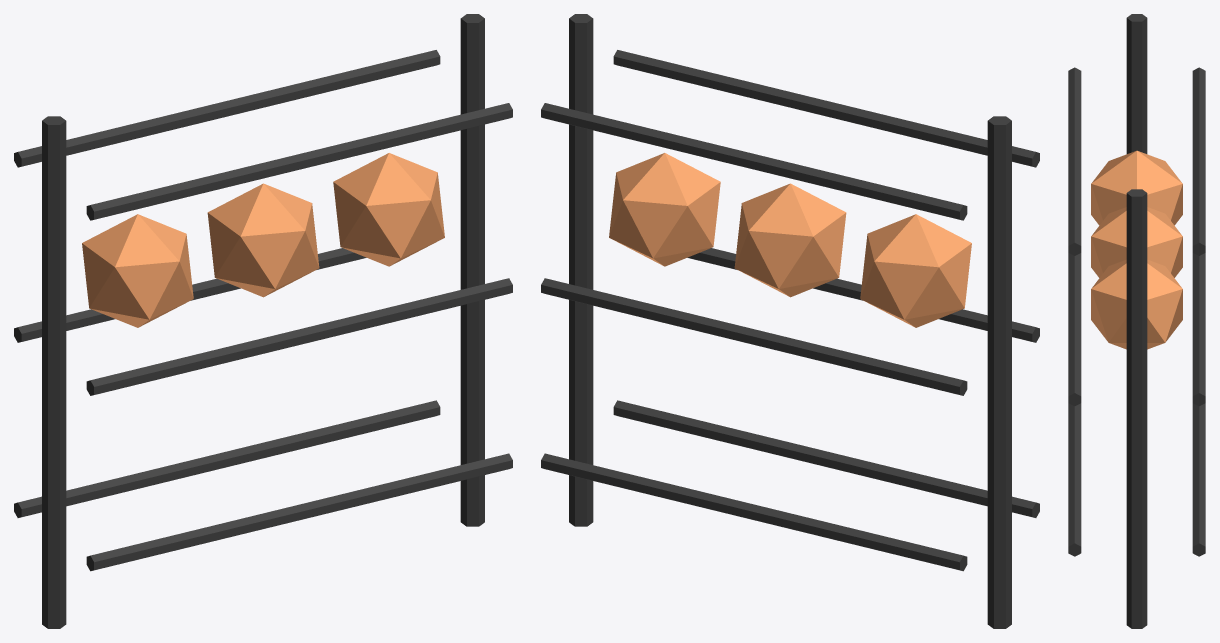
3 renders of one model, left to right at view 1: azimuth 30°, elevation 25°; view 2: azimuth 150°, elevation 25°; view 3: azimuth 270°, elevation 25°, orthographic. The views are drawn at different scales.
Visible parts, largest first — view 1: Frame, Frame.001, Ball, Ball.001, Ball.002, Rail.004, Rail, Rail.002, Rail.001, Rail.005, Rail.003; view 2: Frame, Frame.001, Ball, Ball.001, Ball.002, Rail.005, Rail.001, Rail.003, Rail, Rail.004, Rail.002; view 3: Frame.001, Ball.002, Ball, Ball.001, Frame, Rail.004, Rail.005, Rail, Rail.001, Rail.002, Rail.003.
Boxes of the visible parts, x1,y1,x2,y2 form: Frame: (42,116,66,628); Frame.001: (460,14,484,526); Ball: (82,214,193,327); Ball.001: (207,183,319,297); Ball.002: (333,153,444,266); Rail.004: (86,103,512,220); Rail: (86,453,512,571); Rail.002: (86,278,512,395); Rail.001: (14,400,440,517); Rail.005: (14,50,440,167); Rail.003: (14,248,366,342); Frame: (987,116,1011,628); Frame.001: (569,14,593,526); Ball: (860,214,971,327); Ball.001: (734,183,846,297); Ball.002: (609,153,720,266); Rail.005: (541,103,967,220); Rail.001: (541,453,967,571); Rail.003: (541,278,967,395); Rail: (613,400,1039,517); Rail.004: (613,50,1039,167); Rail.002: (687,248,1039,342); Frame.001: (1126,189,1147,628); Ball.002: (1091,259,1182,349); Ball: (1091,150,1182,225); Ball.001: (1091,207,1182,277); Frame: (1126,14,1147,153); Rail.004: (1068,67,1081,255); Rail.005: (1192,67,1205,255); Rail: (1068,403,1081,556); Rail.001: (1192,403,1205,556); Rail.002: (1068,253,1081,406); Rail.003: (1192,253,1205,406).
Size of the model in its own units: 1.04 by 1.15 by 0.3312.
Materials: 1 (1 with a texture image).
